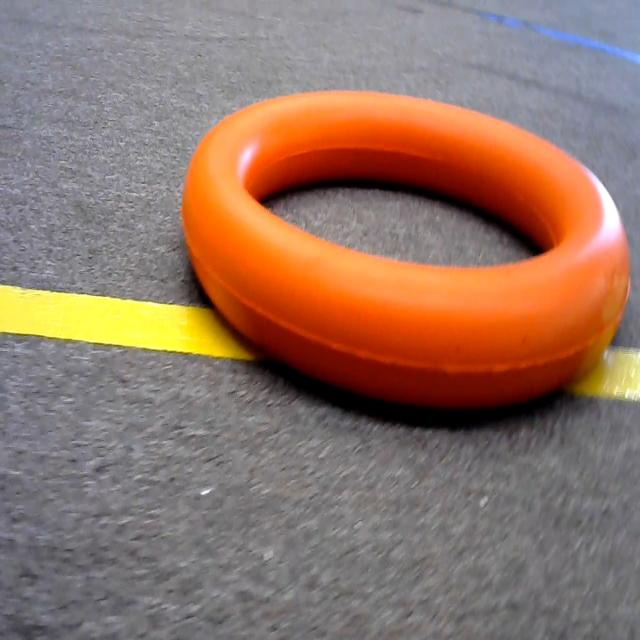note: (172, 86, 640, 417)
